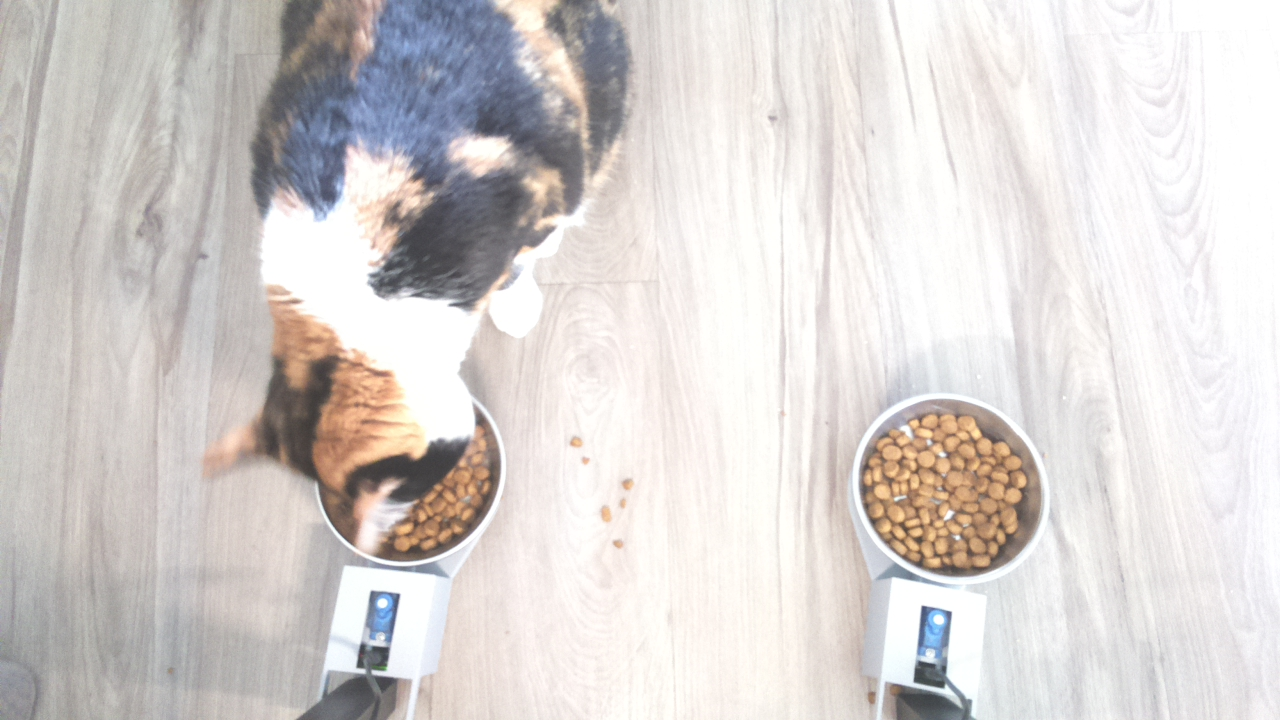bella_eating: (214, 305, 509, 573)
open_bowl: (850, 390, 1055, 585)
